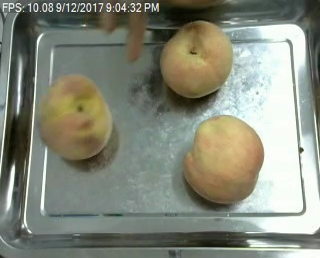Peach: (183, 115, 264, 205), (38, 73, 114, 162), (161, 18, 232, 99)
